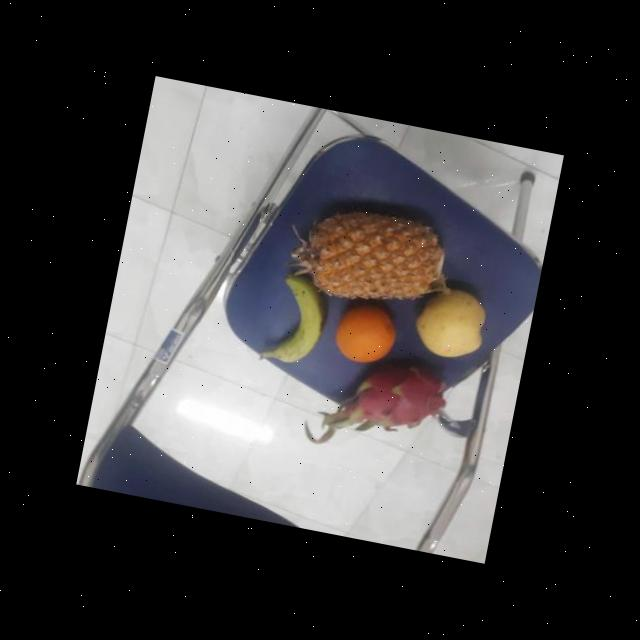orange: (326, 297, 402, 370)
pear: (408, 282, 492, 362)
pineapple: (292, 198, 452, 314)
pitaya: (343, 349, 446, 435)
